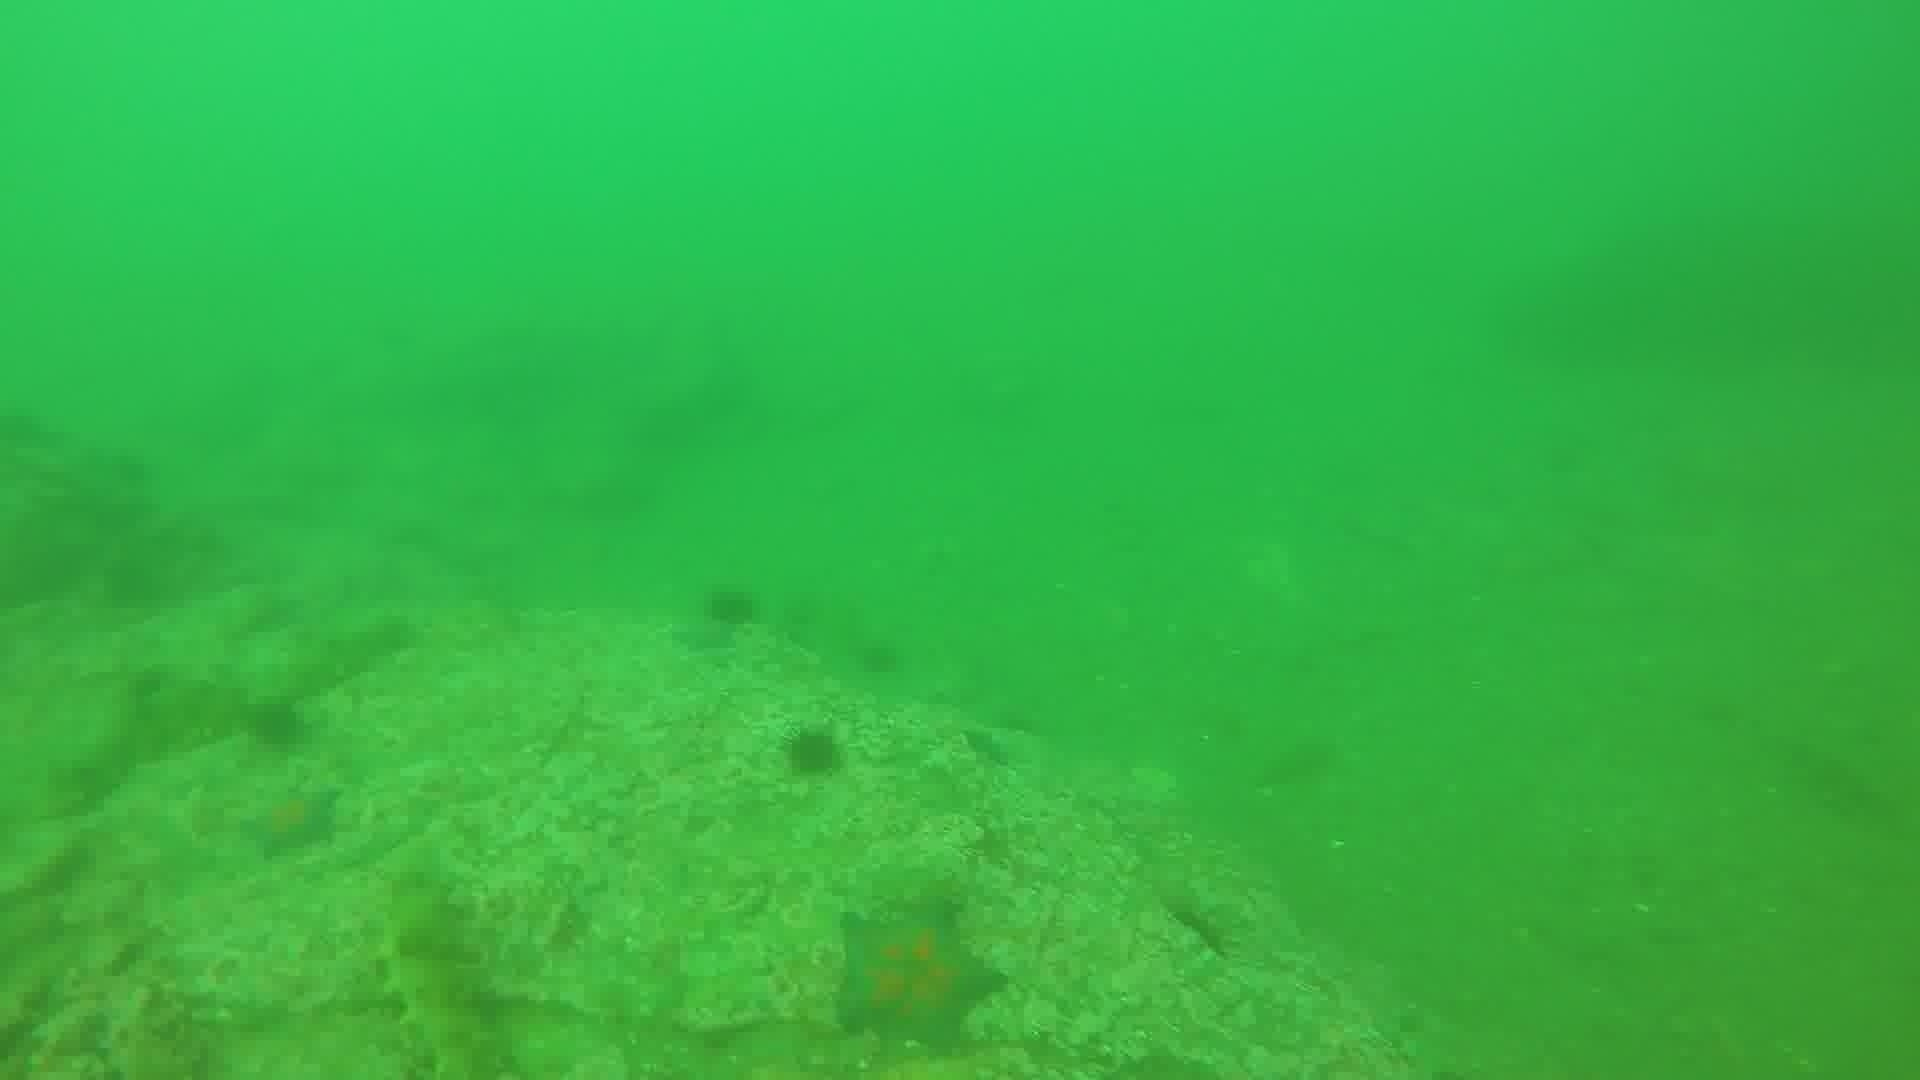echinus: (775, 720, 851, 785), (241, 694, 313, 756), (698, 579, 764, 636), (851, 633, 907, 680)
holothurian: (44, 666, 262, 815), (369, 858, 506, 1080), (258, 605, 419, 707)
starfish: (829, 891, 1007, 1058), (233, 778, 345, 862)
